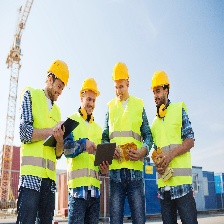helmet: (45, 54, 72, 89), (147, 69, 171, 90), (112, 60, 132, 83), (79, 77, 101, 97)
person: (19, 55, 73, 224), (104, 58, 153, 224), (148, 59, 192, 224), (73, 72, 107, 223)
vest: (20, 93, 57, 195), (151, 104, 191, 192), (70, 110, 103, 195), (108, 99, 142, 175)
